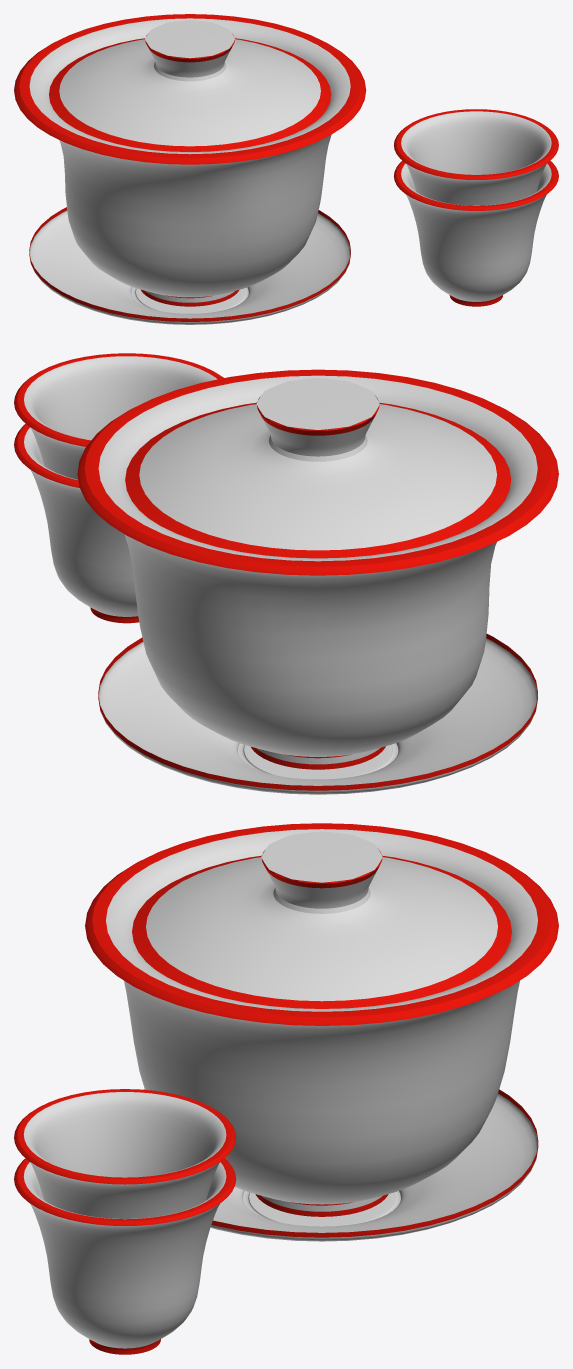
Rendered from CeramicSet.fbx.
3 views of the same model, one above another, from view 1: azimuth 30°, elevation 25°; view 2: azimuth 150°, elevation 25°; view 3: azimuth 270°, elevation 25° (orthographic). The views are drawn at different scales.
Visible parts, largest first — view 1: Ceramic Cup 2; view 2: Ceramic Cup 2; view 3: Ceramic Cup 2.
Boxes of the visible parts, x1,y1,x2,y2 form: Ceramic Cup 2: (14, 14, 558, 324); Ceramic Cup 2: (14, 353, 558, 794); Ceramic Cup 2: (14, 823, 558, 1354).
Bounding box in the file's own units: 34.44 × 19.18 × 27.64.
